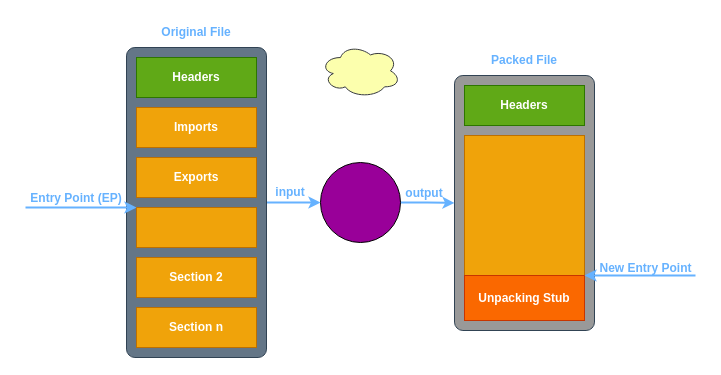
Image size: 721x375. Some labels were removed from this diagram. Each missing label, with the box of its shape:
In Disk: (320, 43, 400, 98)
Packed Sections: (464, 134, 584, 276)
Packer: (320, 162, 400, 242)
Section 1: (136, 206, 256, 248)
